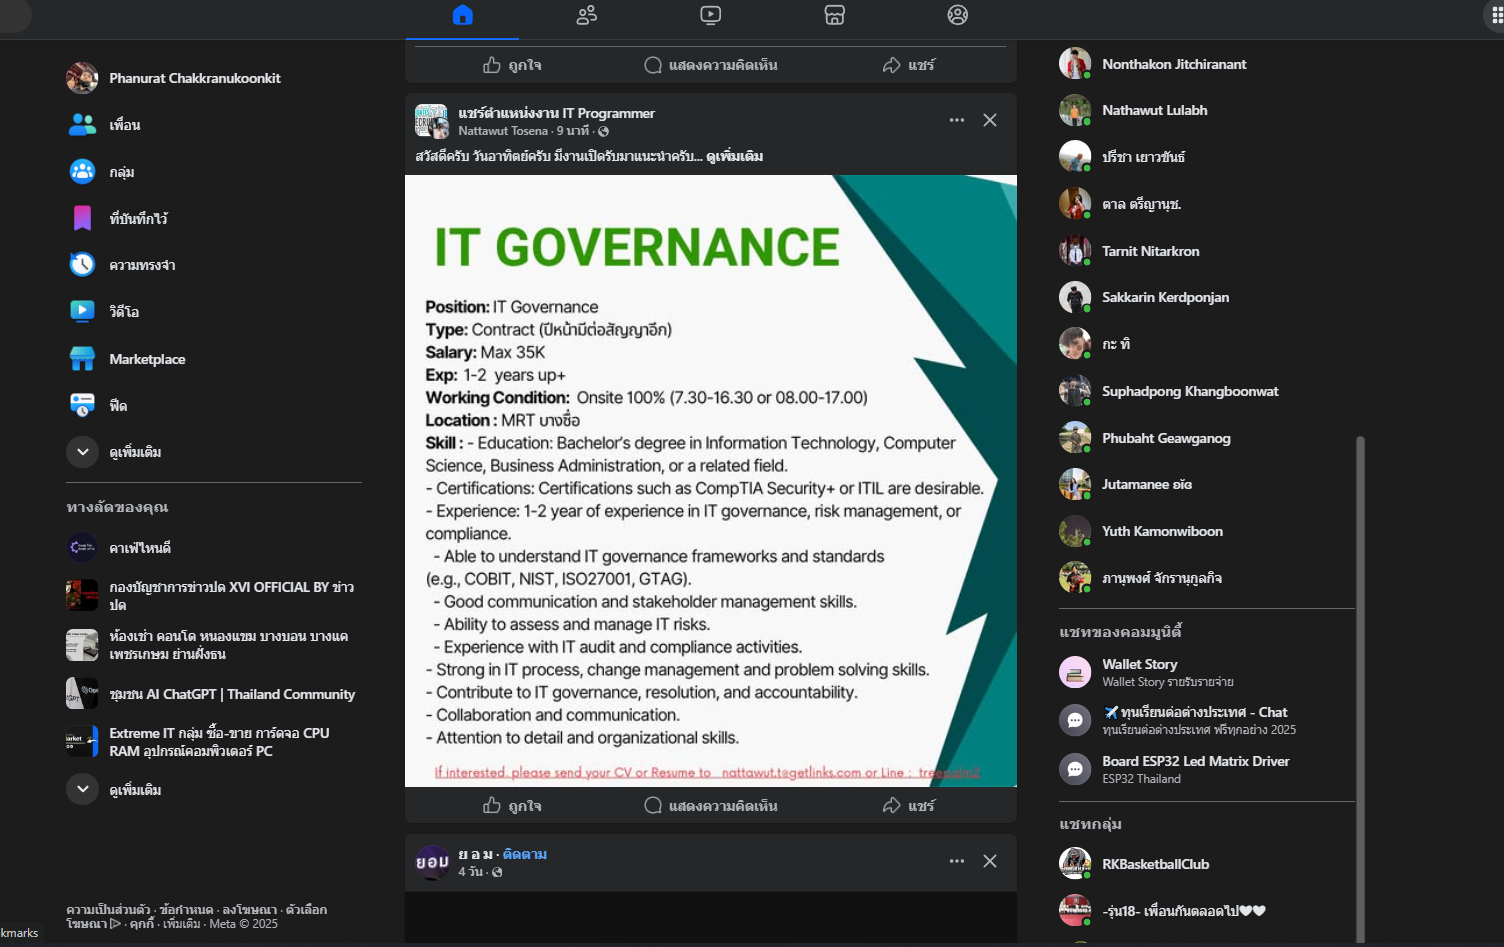topic: (401, 89, 1020, 826), (404, 844, 1018, 947)
